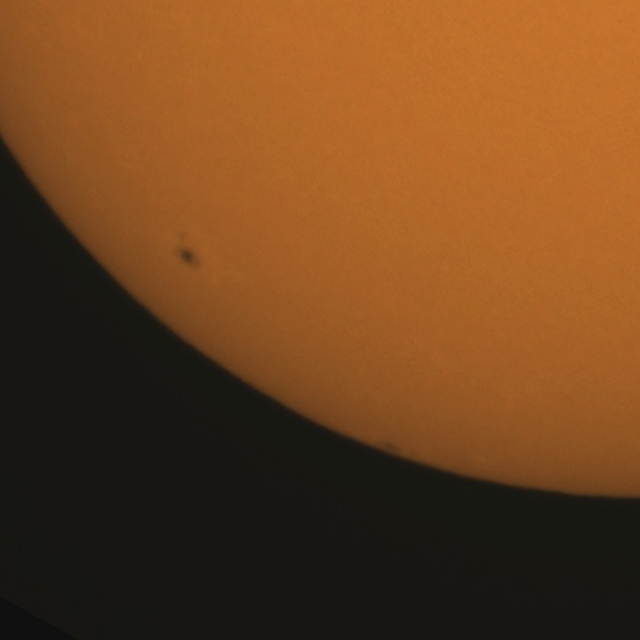sunspot: (176, 246, 199, 270)
